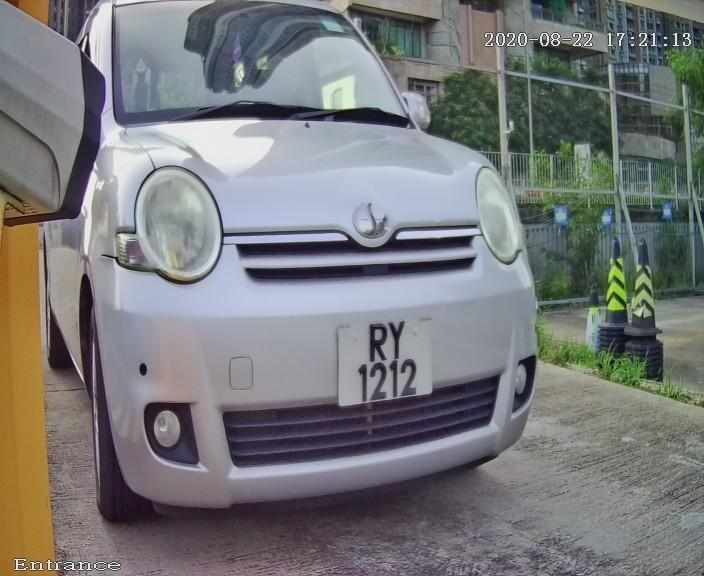Car: (35, 8, 579, 556)
License Plate: (334, 304, 441, 422)
